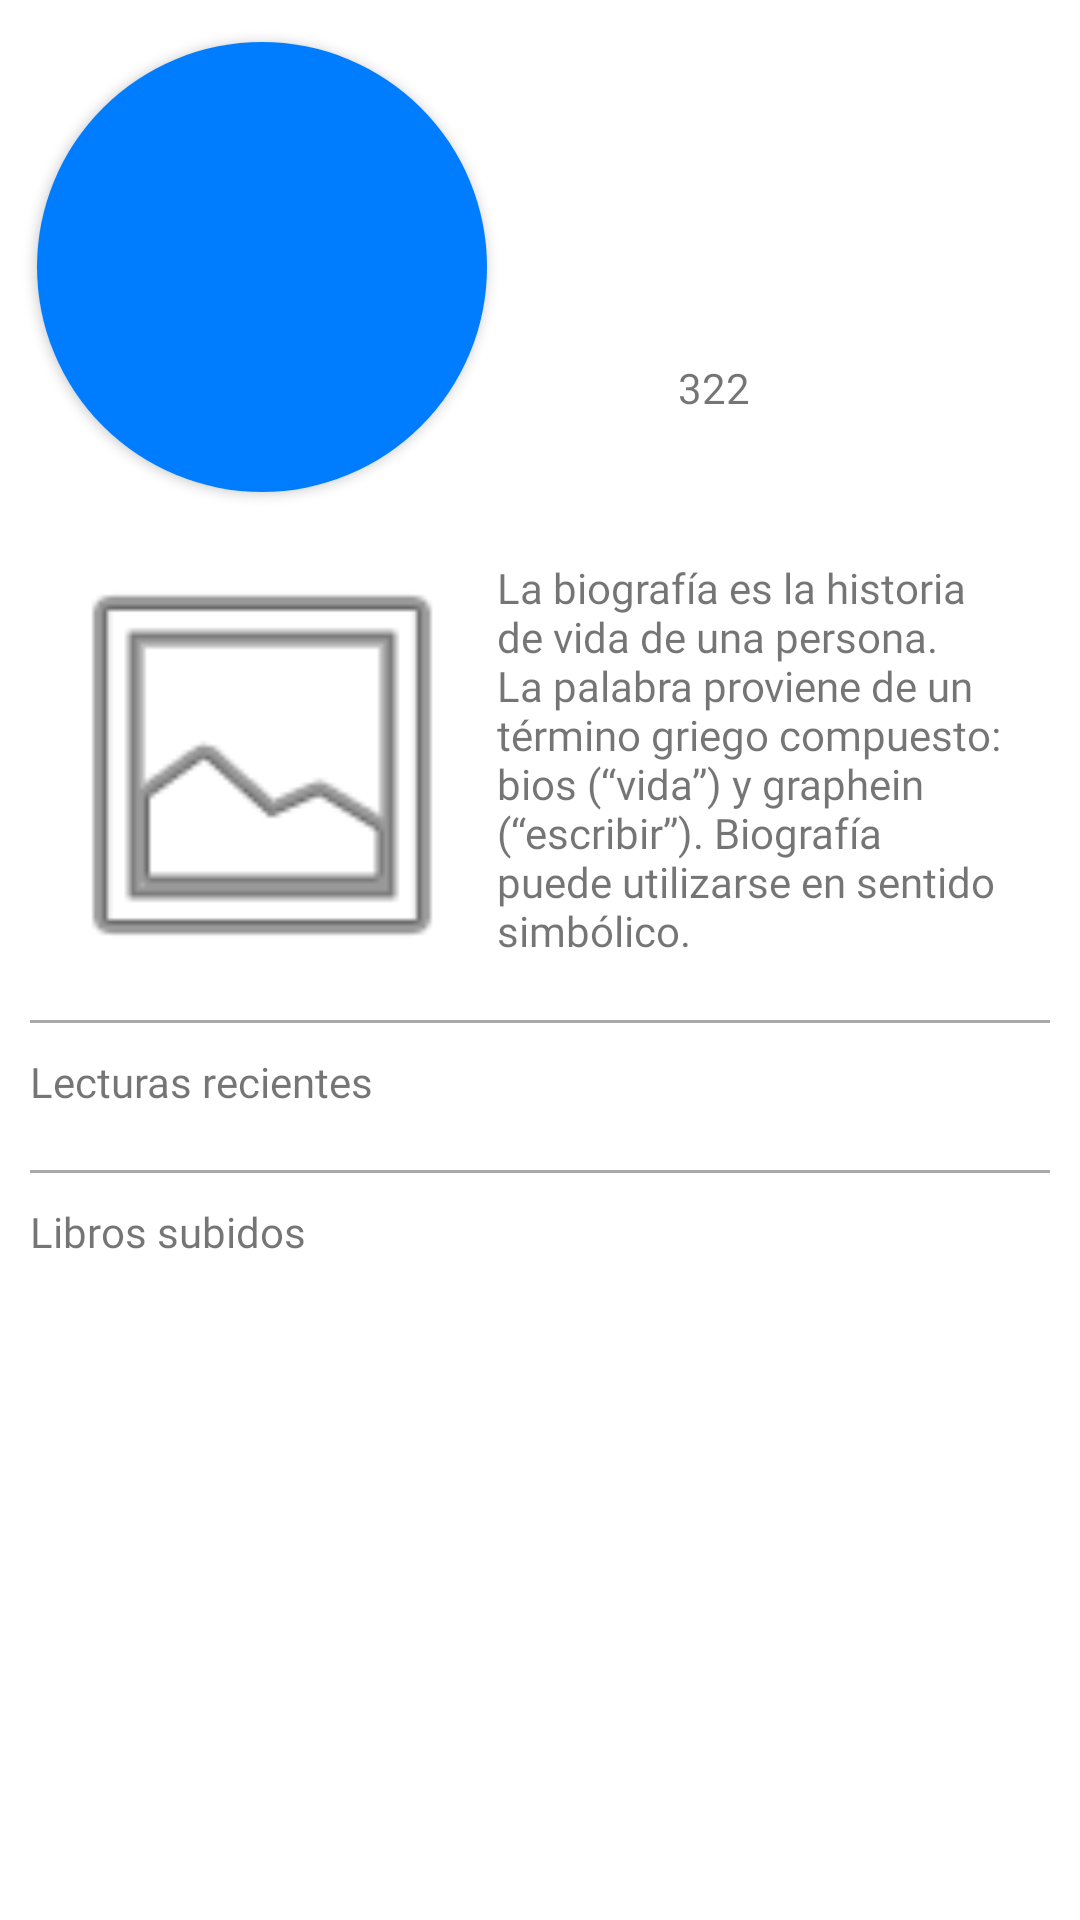

Screen size 1080px x 1920px. Icon name, then its box in pixels as [x1=x1, y1=y1, x2=x2, y2=y2]:
gallery: [x1=92, y1=595, x2=432, y2=935]
